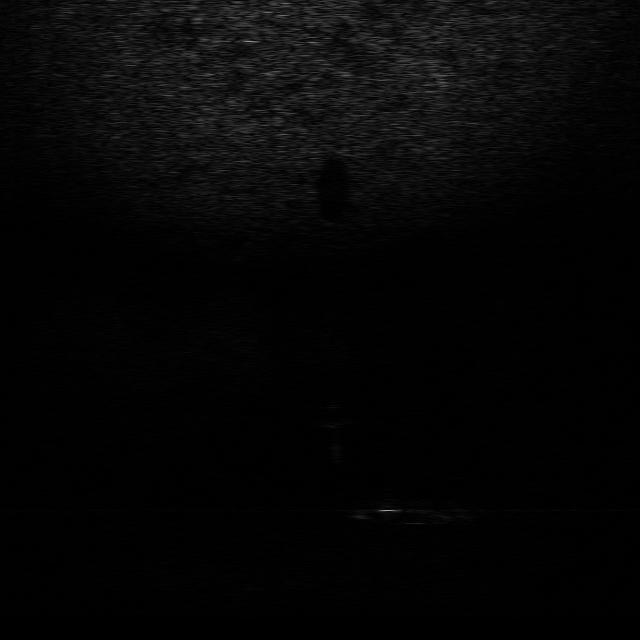ball: (305, 398, 357, 429)
tyre: (344, 495, 460, 527)
